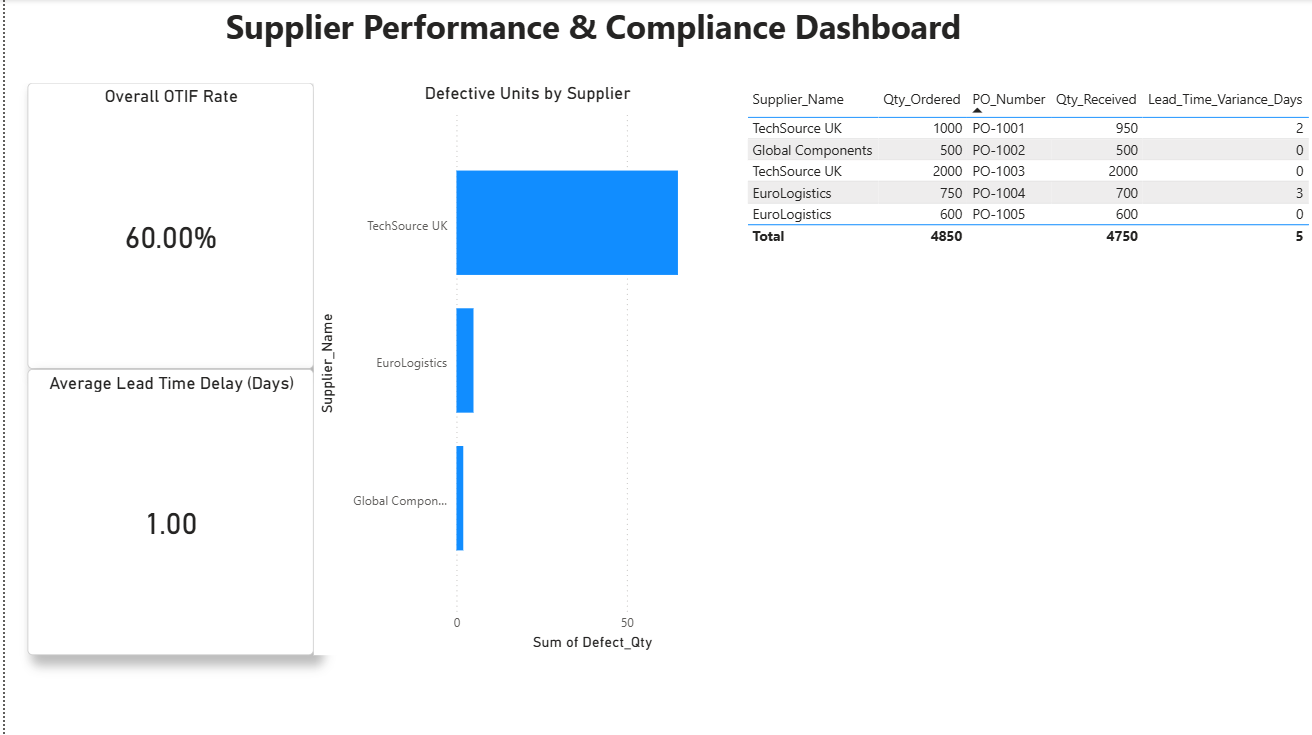

The dashboard page shown, as its layout file describes it:
{"tool":"powerbi","page":{"name":"Supplier Performance","canvas":[1280,720],"ordinal":0},"visuals":[{"type":"card","title":"Overall OTIF Rate","fields":{"Values":["Avg(supply_chain_project v_supplier_metrics.Is_OTIF)"]},"box":[21.8,82.5,280,280],"z":0},{"type":"card","title":"Average Lead Time Delay (Days)","fields":{"Values":["Avg(supply_chain_project v_supplier_metrics.Lead_Time_Variance_Days)"]},"box":[21.8,362.5,280,280],"z":1000},{"type":"clusteredBarChart","title":"Defective Units by Supplier","fields":{"Category":["supply_chain_project v_supplier_metrics.Supplier_Name"],"Y":["Sum(supply_chain_project v_supplier_metrics.Defect_Qty)"]},"box":[301.8,82.5,418.5,560],"z":2000},{"type":"tableEx","fields":{"Values":["supply_chain_project v_supplier_metrics.Supplier_Name","Sum(supply_chain_project v_supplier_metrics.Qty_Ordered)","supply_chain_project v_supplier_metrics.PO_Number","Sum(supply_chain_project v_supplier_metrics.Qty_Received)","Sum(supply_chain_project v_supplier_metrics.Lead_Time_Variance_Days)"]},"box":[720.3,82.5,560,185.1],"z":3000},{"type":"textbox","box":[0,0,1151.2,82.5],"z":4000}]}

Visuals, with their boxes in screenshot pixels (x1, y1, x2, y2), scaled from the page's 1280x720 canvas onto the 1312x735 screenshot:
"Overall OTIF Rate" card: bbox=[22, 84, 309, 370]
"Average Lead Time Delay (Days)" card: bbox=[22, 370, 309, 656]
"Defective Units by Supplier" clusteredBarChart: bbox=[309, 84, 738, 656]
tableEx - supply_chain_project v_supplier_metrics.Supplier_Name x Sum(supply_chain_project v_supplier_metrics.Qty_Ordered): bbox=[738, 84, 1311, 273]
textbox: bbox=[0, 0, 1180, 84]
